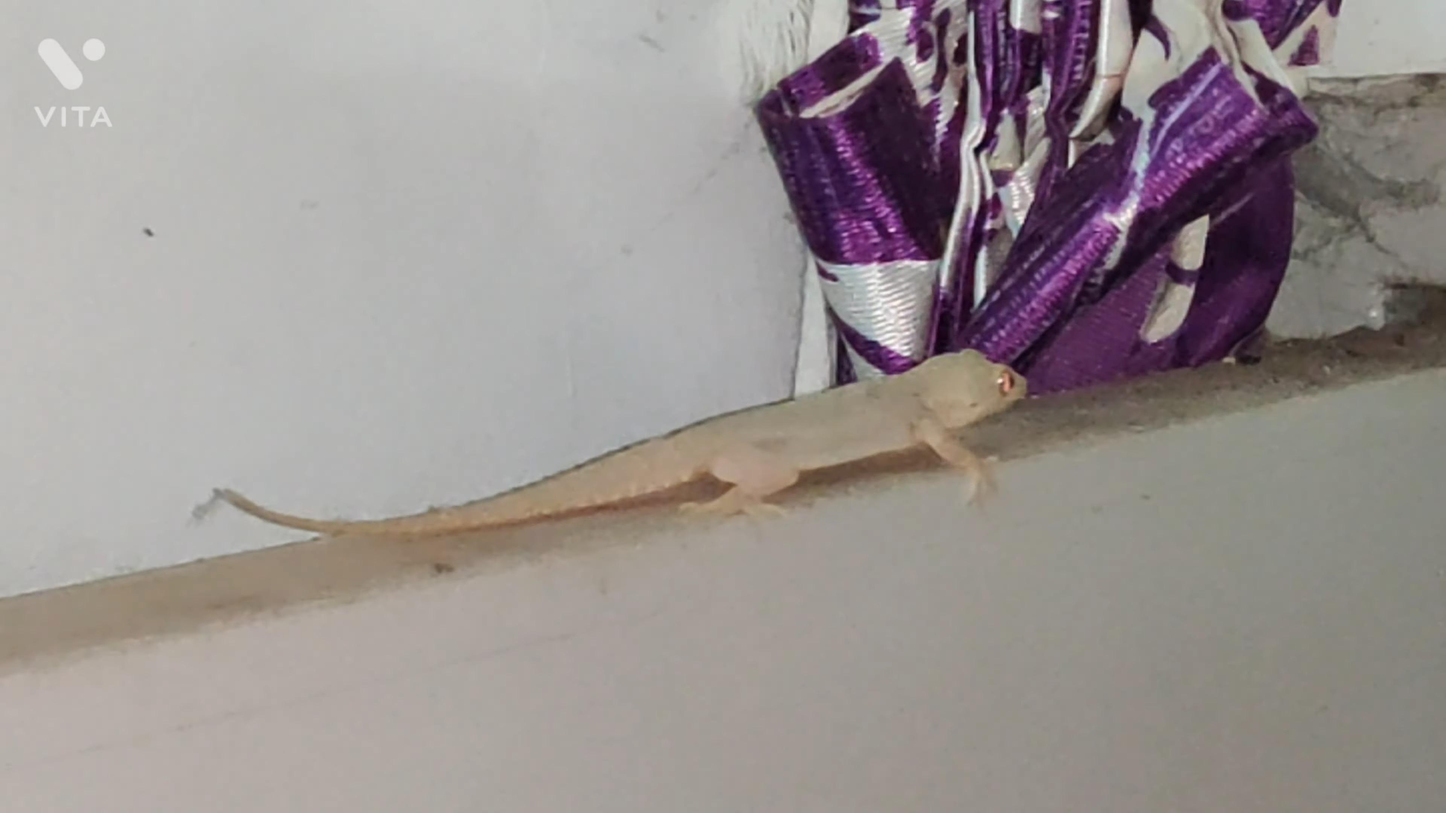lizard: (200, 338, 1035, 545)
